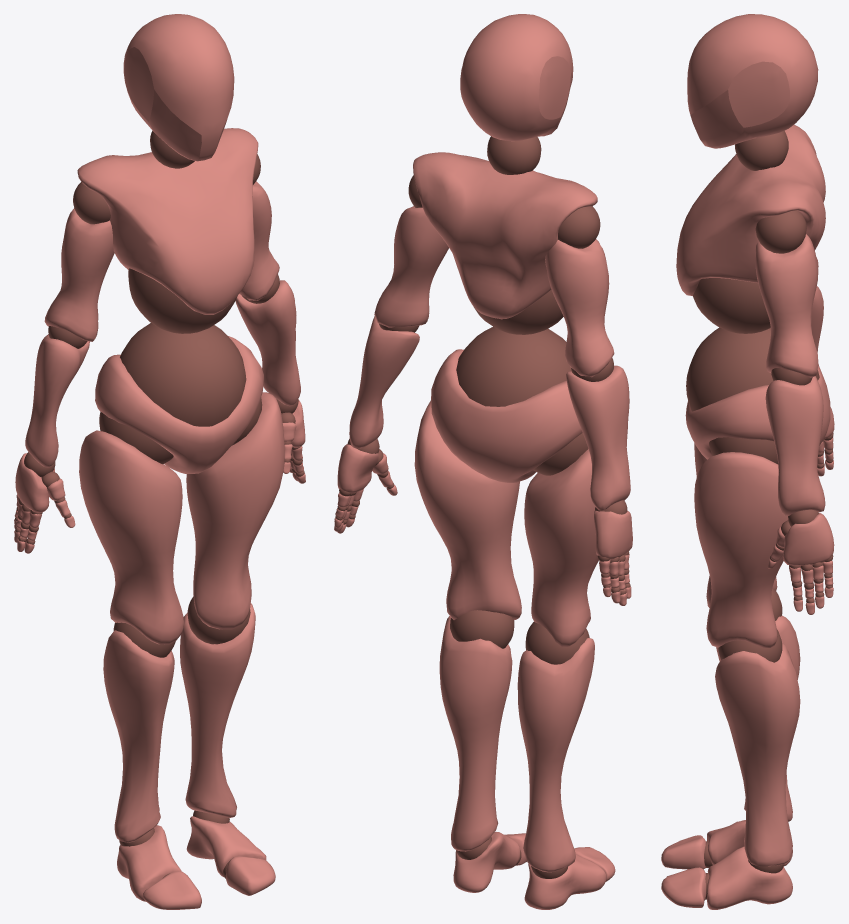
File: X_Bot_posed.fbx
The picture shows the model from 3 angles, left to right: view 1: azimuth 30°, elevation 25°; view 2: azimuth 150°, elevation 25°; view 3: azimuth 270°, elevation 25°; orthographic projection. The views are drawn at different scales.
Parts seen in each view (by area): view 1: Beta_Surface, Beta_Joints; view 2: Beta_Surface, Beta_Joints; view 3: Beta_Surface, Beta_Joints.
Part boxes in pixels (<box>): Beta_Surface: <box>14,14,305,909</box>; Beta_Joints: <box>15,130,304,878</box>; Beta_Surface: <box>334,14,632,909</box>; Beta_Joints: <box>335,136,630,878</box>; Beta_Surface: <box>661,14,834,909</box>; Beta_Joints: <box>686,131,833,899</box>.
Bounding box in the file's own units: 62.62 × 181 × 32.85.
